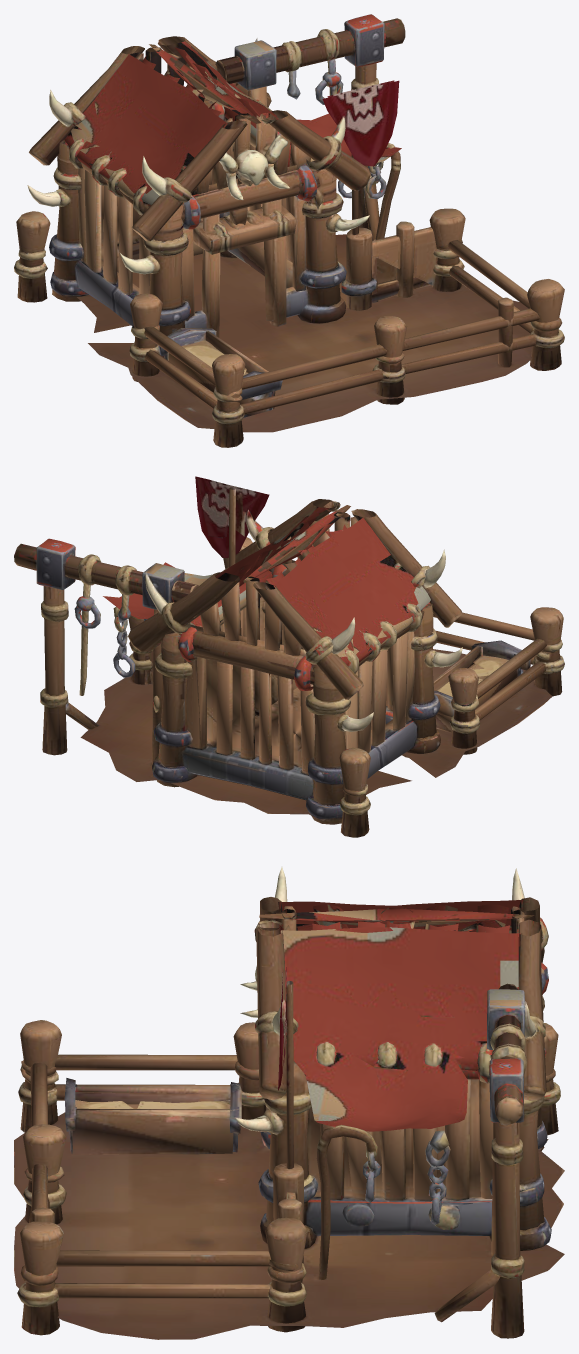
Rendered from matadero_e3.glb.
The picture shows the model from 3 angles, top to bottom: view 1: azimuth 30°, elevation 25°; view 2: azimuth 150°, elevation 25°; view 3: azimuth 270°, elevation 25°; orthographic projection. The views are drawn at different scales.
Bounding box in the file's own units: 8 × 4.64 × 8.
Materials: 1 (1 with a texture image).
